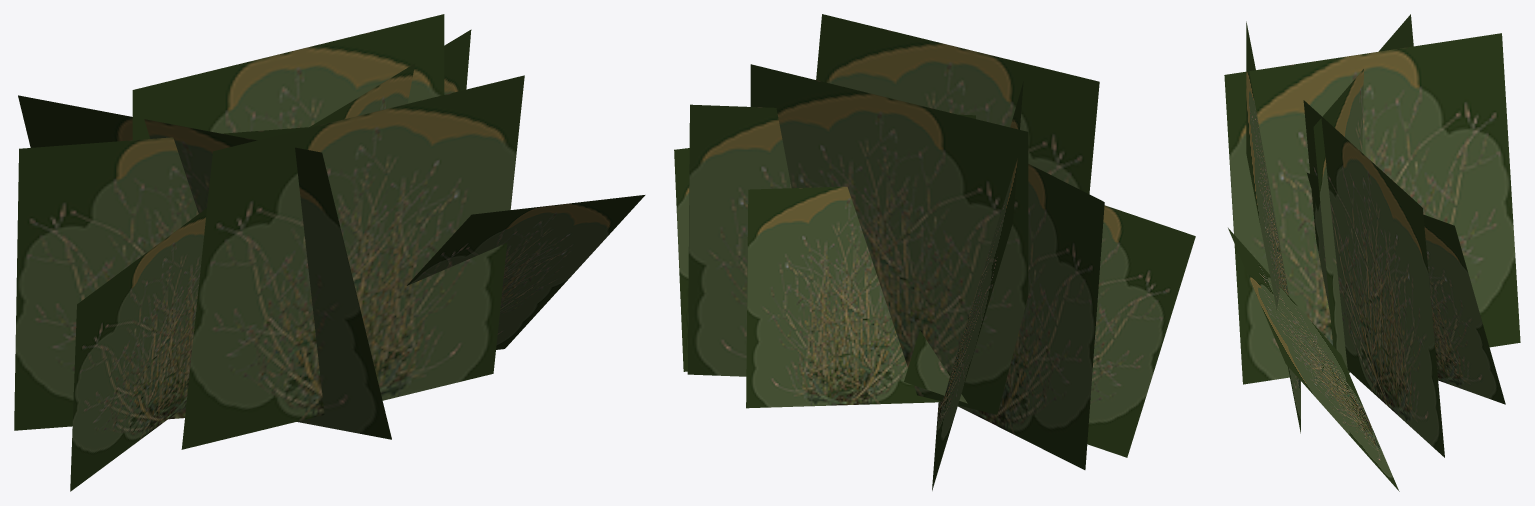
Rendered from plants_k006.FBX.
3 renders of one model, left to right at view 1: azimuth 30°, elevation 25°; view 2: azimuth 150°, elevation 25°; view 3: azimuth 270°, elevation 25°, orthographic. The views are drawn at different scales.
Visible parts, largest first — view 1: plants_k006; view 2: plants_k006; view 3: plants_k006.
Part boxes in pixels (bbox=[...]): plants_k006: bbox=[14, 14, 645, 491]; plants_k006: bbox=[674, 14, 1195, 490]; plants_k006: bbox=[1224, 14, 1520, 491].
Bounding box in the file's own units: 5.56 × 3.34 × 2.82.
Materials: 1 (1 with a texture image).
